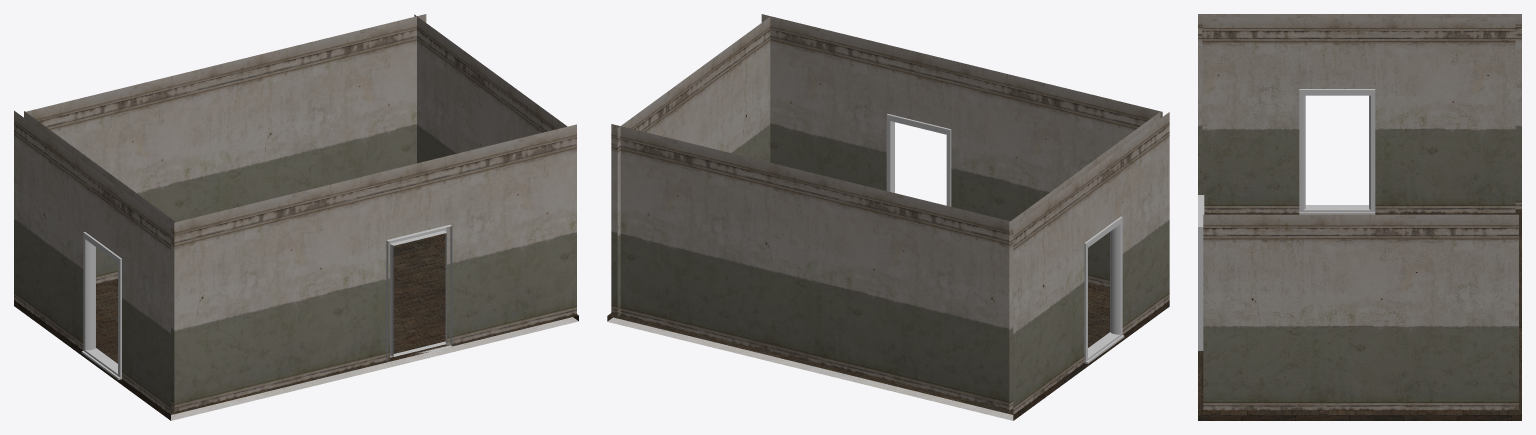
The model's file is room_6m_x_9m_door_right.fbx.
3 views of the same model, side by side, from view 1: azimuth 30°, elevation 25°; view 2: azimuth 150°, elevation 25°; view 3: azimuth 270°, elevation 25° (orthographic). The views are drawn at different scales.
Parts seen in each view (by area): view 1: room_6m_x_9m_door_right; view 2: room_6m_x_9m_door_right; view 3: room_6m_x_9m_door_right.
Part boxes in pixels (x1,y1,x2,y2): room_6m_x_9m_door_right: (14,14,578,420); room_6m_x_9m_door_right: (607,14,1169,420); room_6m_x_9m_door_right: (1198,14,1521,420).
Size of the model in its own units: 908 by 412 by 600.
